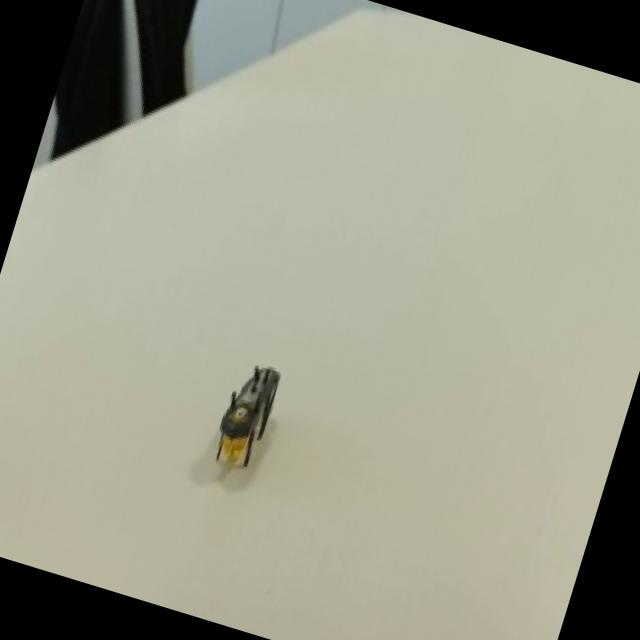6_NanoBug_GrisOscuro: (157, 314, 320, 506)
